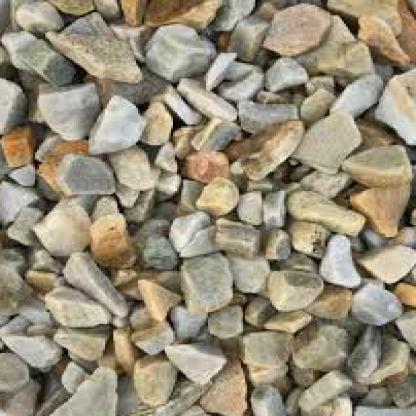Metamorphic_Quartize: (56, 8, 144, 89), (280, 101, 367, 179), (276, 189, 364, 247), (235, 327, 303, 399), (179, 70, 251, 131), (200, 355, 270, 414), (86, 92, 157, 150), (185, 247, 243, 314), (33, 205, 103, 259), (43, 152, 124, 198), (41, 78, 99, 140), (342, 138, 410, 189), (260, 262, 319, 314), (136, 270, 185, 320), (194, 176, 245, 216)
